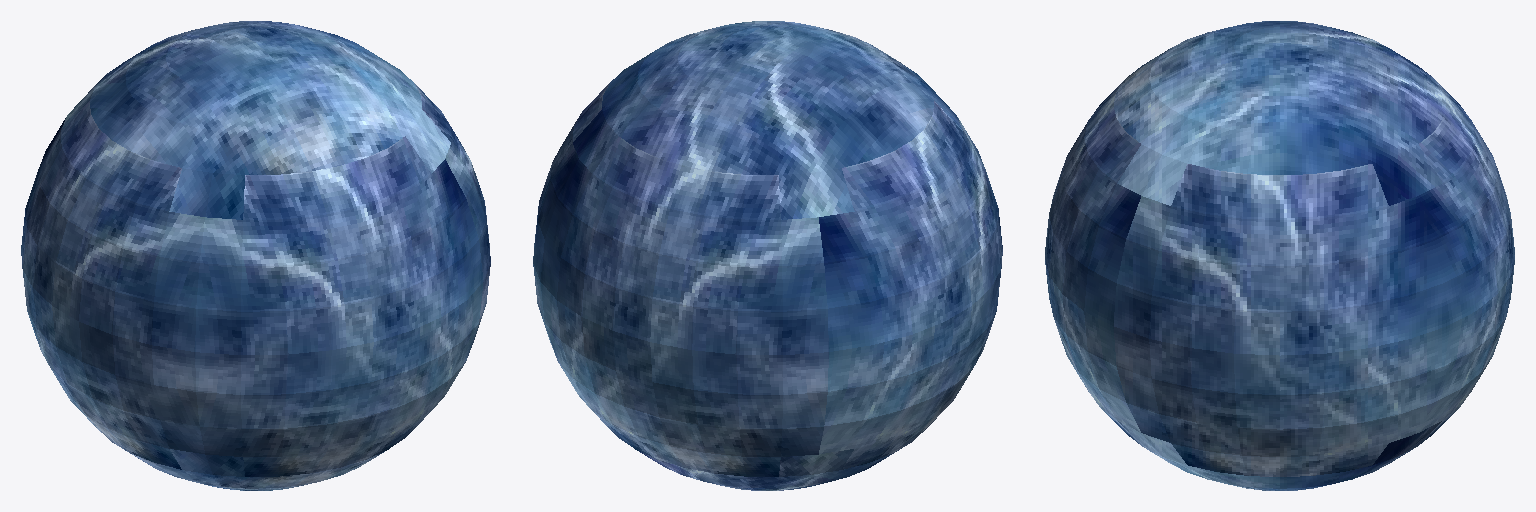
The picture shows the model from 3 angles: view 1: azimuth 30°, elevation 25°; view 2: azimuth 150°, elevation 25°; view 3: azimuth 270°, elevation 25°; orthographic projection.
Parts seen in each view (by area): view 1: storm_particle; view 2: storm_particle; view 3: storm_particle.
Part boxes in pixels (left/top/right/bottom): storm_particle: left=21, top=21, right=490, bottom=490; storm_particle: left=533, top=21, right=1002, bottom=490; storm_particle: left=1045, top=21, right=1514, bottom=490.
Bounding box in the file's own units: 2 × 2 × 2.
1 materials, 1 textured.